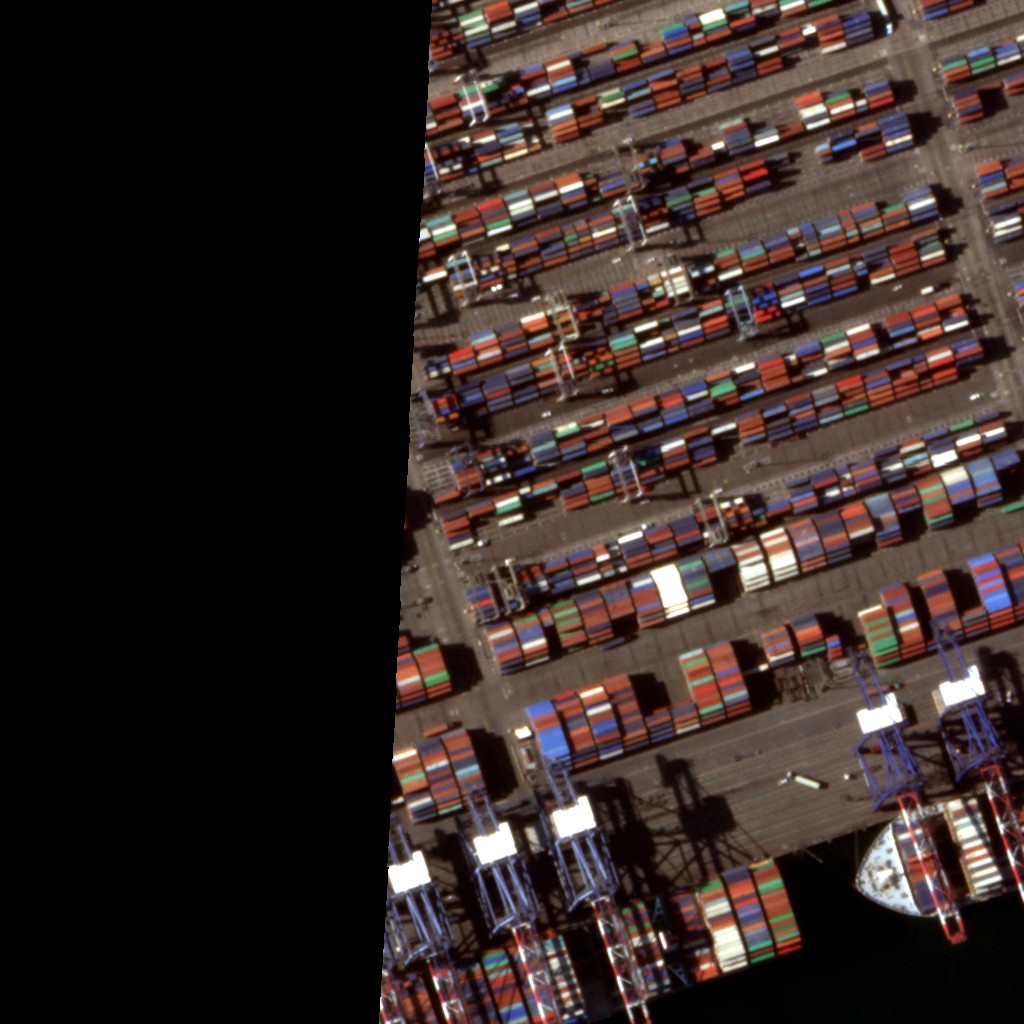boats: (382, 862, 795, 1023), (864, 771, 1023, 925)
cranes: (856, 697, 970, 947), (936, 670, 1023, 915), (456, 787, 542, 941), (540, 771, 622, 914), (392, 827, 456, 968)
